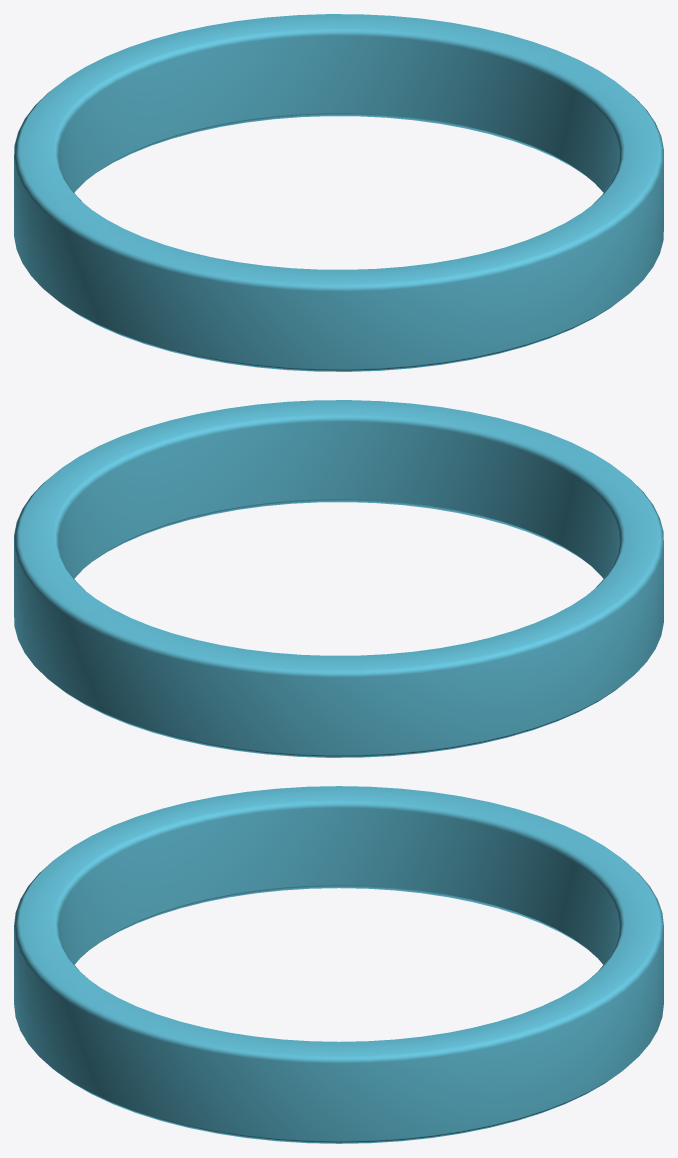
3 views of the same model, one above another, from view 1: azimuth 30°, elevation 25°; view 2: azimuth 150°, elevation 25°; view 3: azimuth 270°, elevation 25° (orthographic).
Visible parts, largest first — view 1: seal_body; view 2: seal_body; view 3: seal_body.
Part boxes in pixels (x1=…): seal_body: x1=14, y1=14, x2=663, y2=371; seal_body: x1=14, y1=400, x2=663, y2=757; seal_body: x1=14, y1=786, x2=663, y2=1143.
Bounding box in the file's own units: 0.087 × 0.013 × 0.087.
